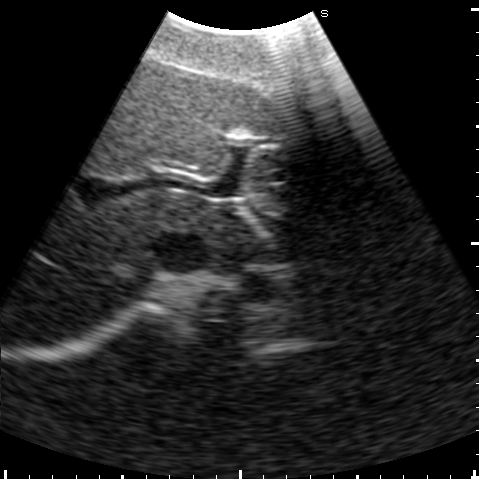IVC: (151, 234, 206, 270)
S1: (196, 209, 265, 268)
S2: (247, 206, 315, 256)
S3: (240, 88, 313, 217)
S4: (84, 60, 259, 176)
